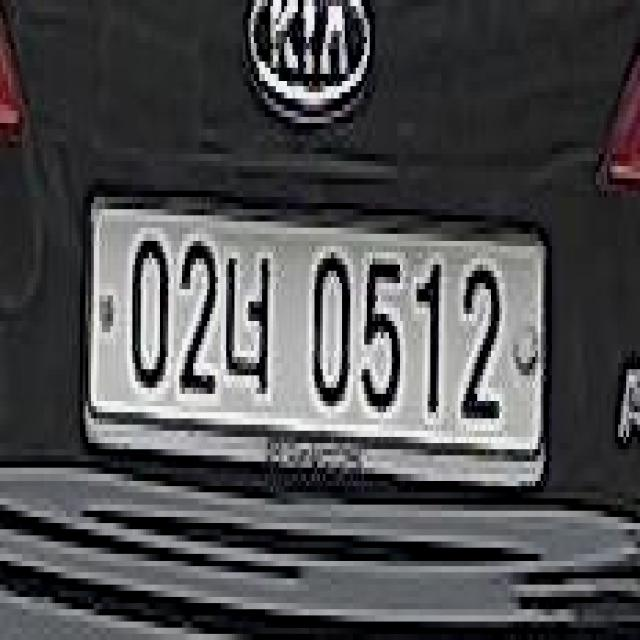illegal_plate: (82, 178, 552, 511)
